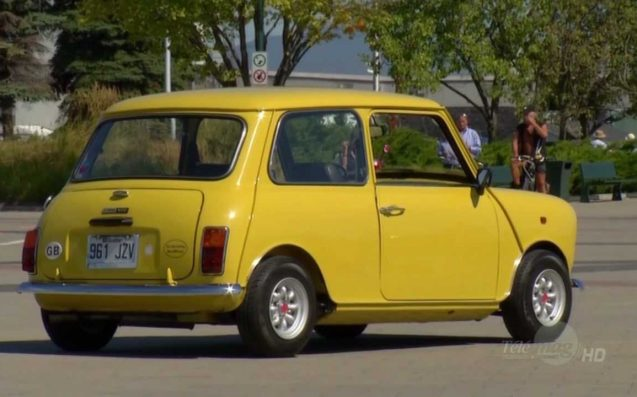car: (27, 83, 579, 348)
